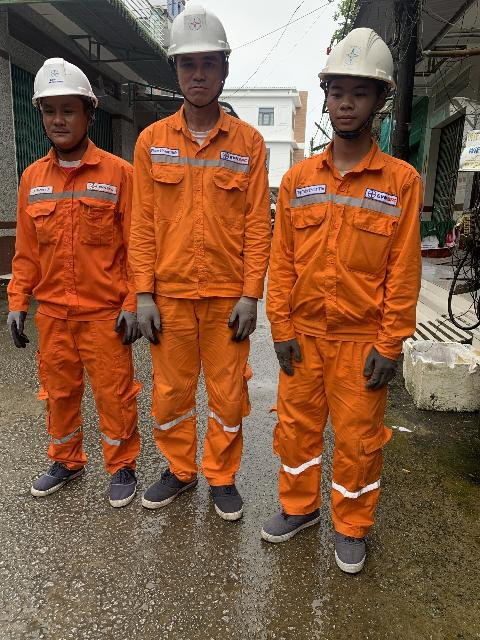gloves: (223, 286, 262, 348), (0, 298, 43, 348), (360, 341, 396, 395), (134, 281, 163, 345), (266, 330, 303, 380), (116, 301, 141, 347)
helmet: (314, 26, 403, 90), (158, 3, 240, 68), (25, 53, 98, 108)
shoes: (257, 491, 322, 549), (200, 465, 248, 528), (31, 444, 85, 499), (140, 459, 197, 508), (331, 514, 372, 578), (97, 464, 139, 512)
